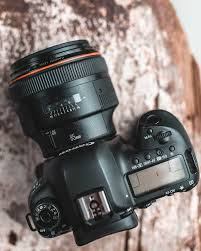camera: (9, 41, 197, 240)
